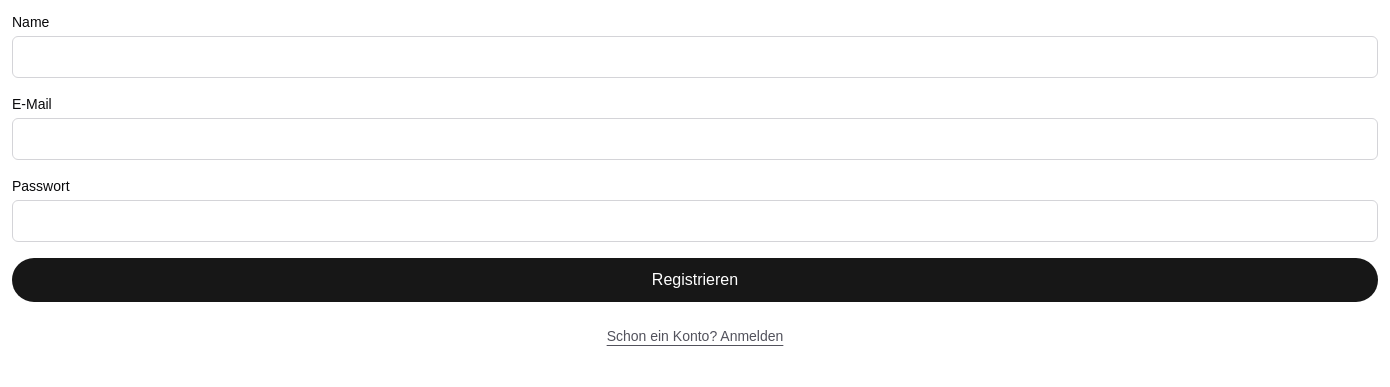
Test: F004 RegisterForm › F004/AC-2 fokussiert das erste fehlerhafte Feld (E-Mail, wenn der Name gültig ist)
Type "Max" into the field labelled "Name" at (695, 57), box x1=12 y1=36 x2=1378 y2=78
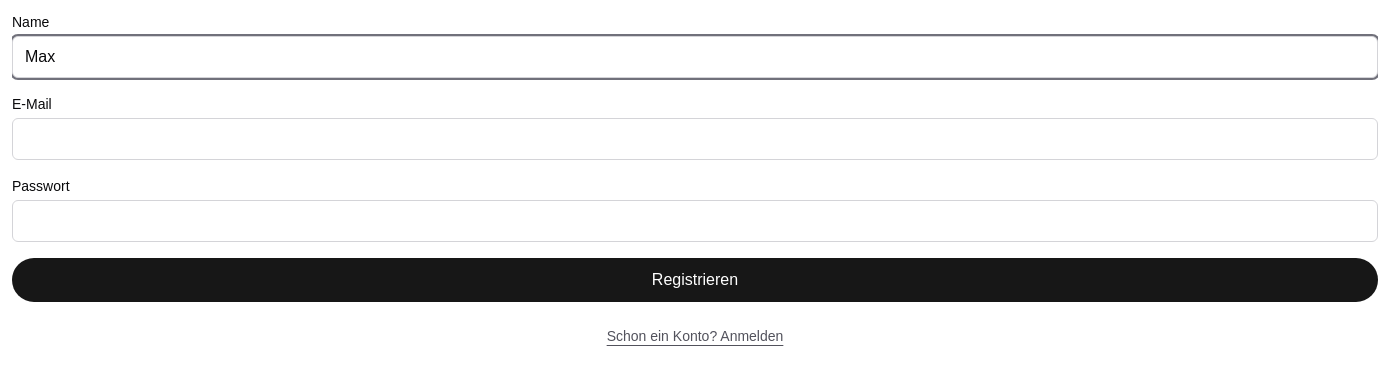
Type "max@" into the field labelled "E-Mail" at (695, 139), box x1=12 y1=118 x2=1378 y2=160
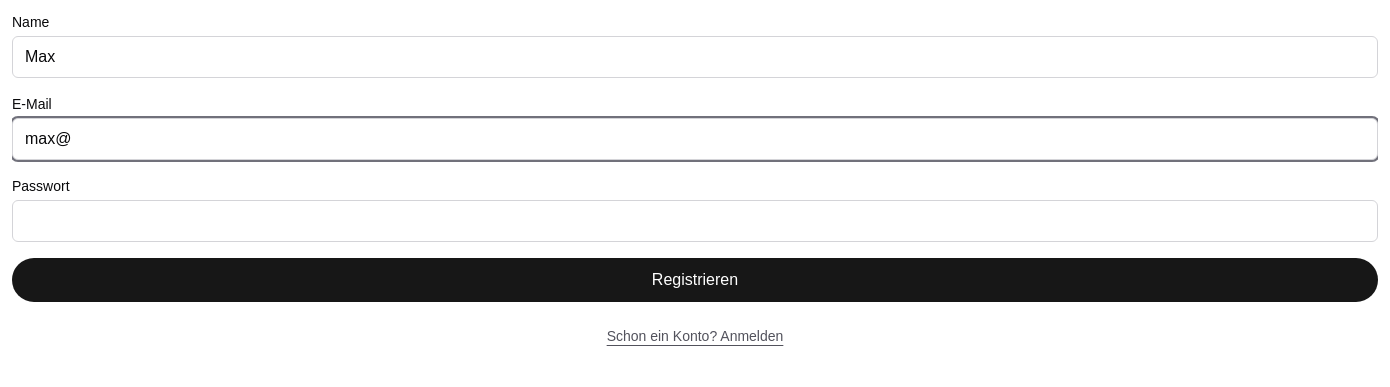
Type "geheim123" into the password field labelled "Passwort" at (695, 221), box x1=12 y1=200 x2=1378 y2=242
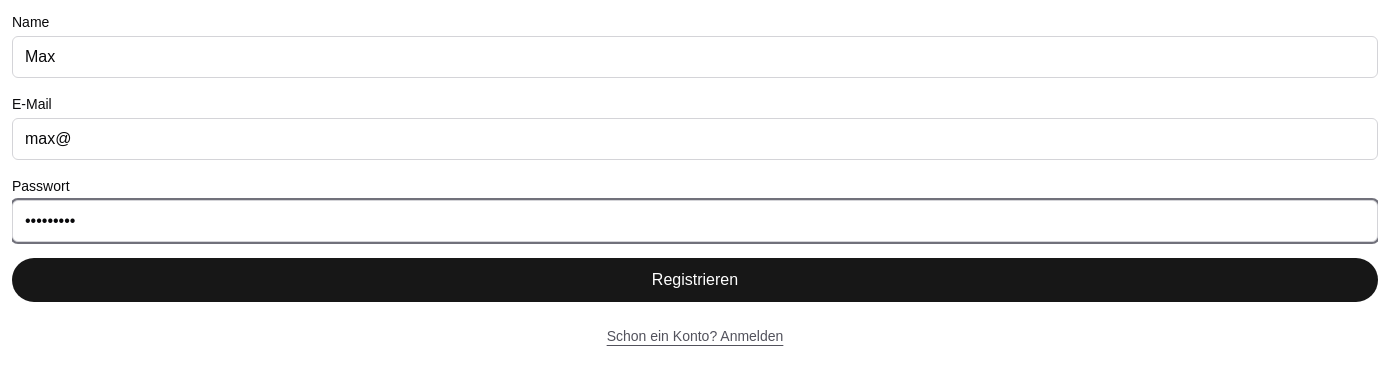
Click the button "Registrieren" at (695, 280), box x1=12 y1=258 x2=1378 y2=302
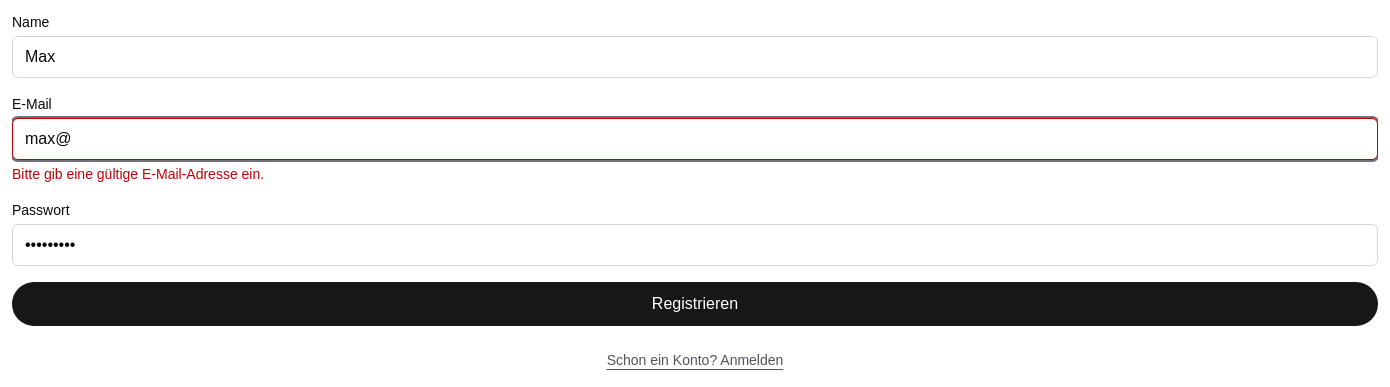
Result: the text "Bitte gib eine gültige E-Mail-Adresse ein." is shown at x1=12 y1=166 x2=264 y2=182
